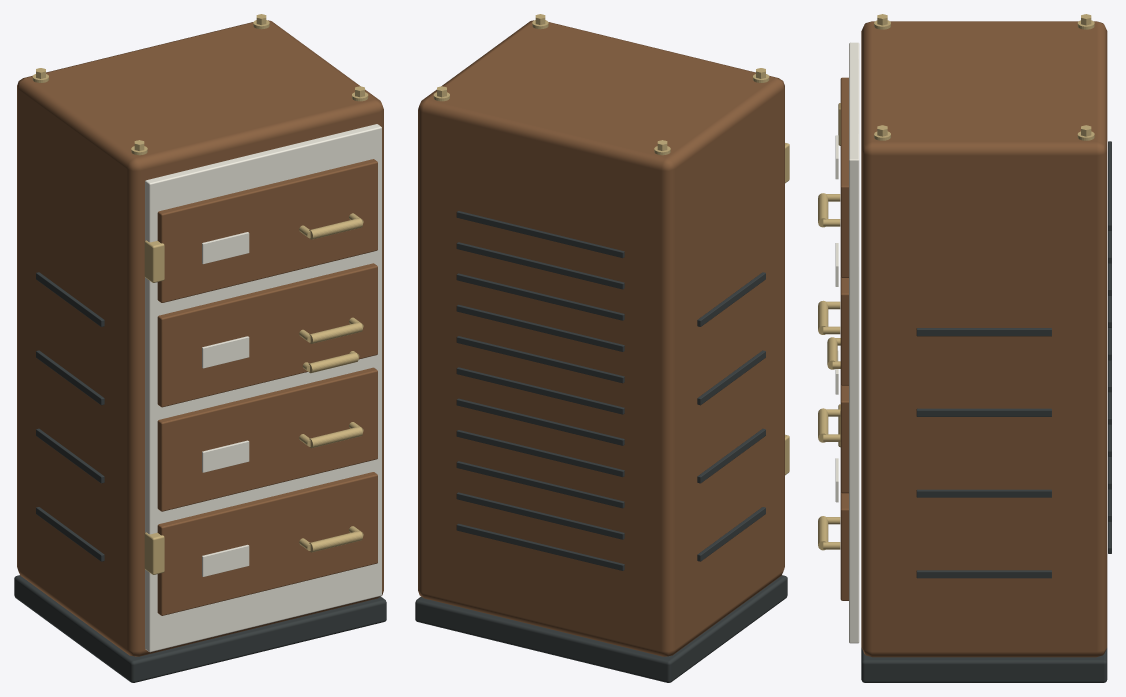
Rendered from city-courthouse-and-records-office-city-courthouse-and-3e0dd3a5__30987.glb.
3 views of the same model, side by side, from view 1: azimuth 30°, elevation 25°; view 2: azimuth 150°, elevation 25°; view 3: azimuth 270°, elevation 25° (orthographic). The views are drawn at different scales.
Visible parts, largest first — view 1: city-courthouse-and-records-office-docket-cabinet; view 2: city-courthouse-and-records-office-docket-cabinet; view 3: city-courthouse-and-records-office-docket-cabinet.
Part boxes in pixels (bbox=[...]): city-courthouse-and-records-office-docket-cabinet: bbox=[14, 14, 386, 682]; city-courthouse-and-records-office-docket-cabinet: bbox=[415, 14, 789, 682]; city-courthouse-and-records-office-docket-cabinet: bbox=[818, 14, 1111, 682].
Size of the model in its own units: 0.742 by 1.42 by 0.6925.
